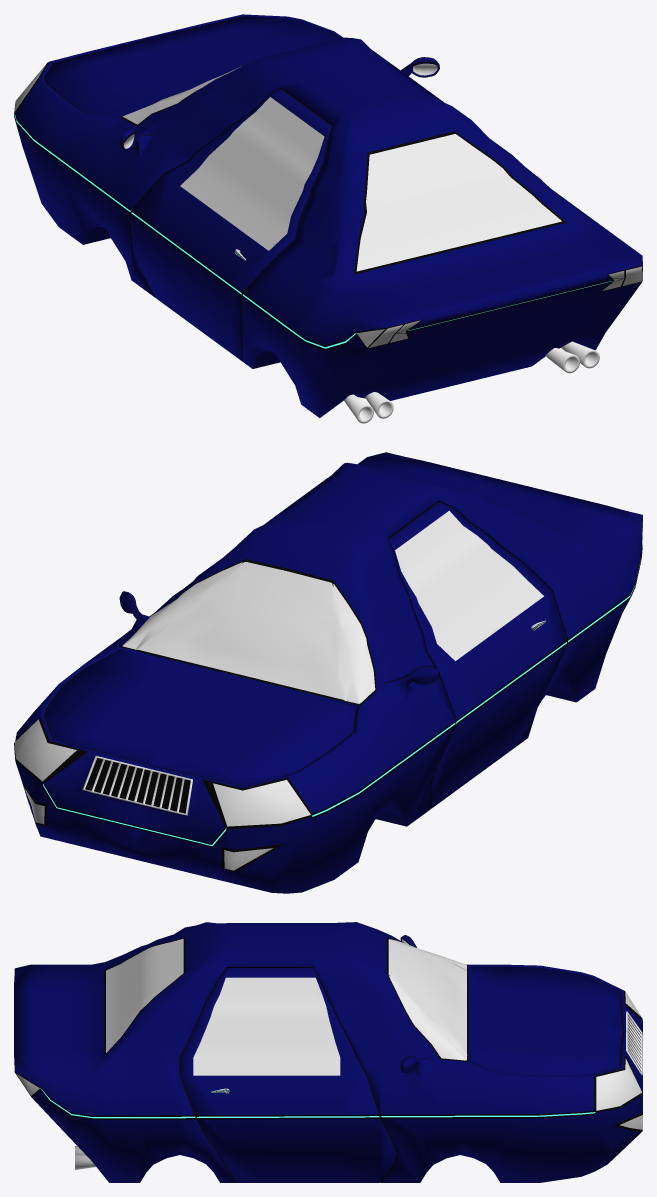
File: CarBody.fbx
3 views of the same model, one above another, from view 1: azimuth 30°, elevation 25°; view 2: azimuth 150°, elevation 25°; view 3: azimuth 270°, elevation 25° (orthographic). The views are drawn at different scales.
Visible parts, largest first — view 1: Cube; view 2: Cube; view 3: Cube.
Part boxes in pixels (x1,y1,x2,y2): Cube: (14,14,642,423); Cube: (14,452,642,893); Cube: (14,922,642,1182).
Bounding box in the file's own units: 657 × 443 × 1328.
